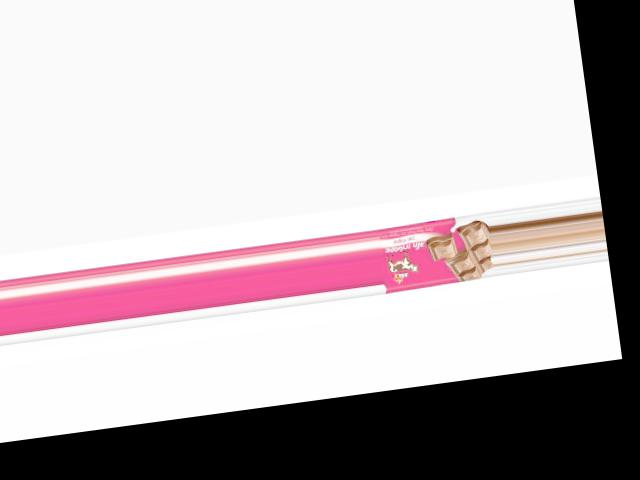chocolate: (375, 213, 493, 293)
